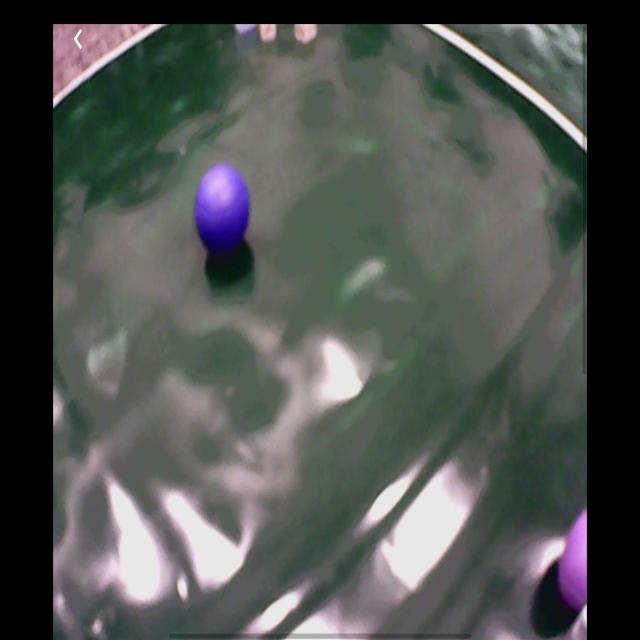ball: (196, 166, 251, 253), (558, 503, 588, 617)
